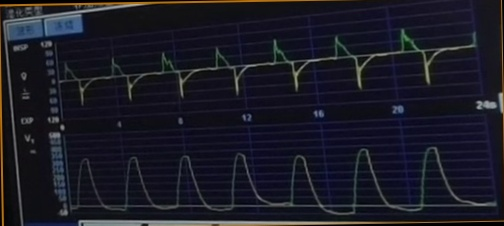Accumulation Flow: (61, 28, 472, 107)
Volume: (71, 144, 483, 217)
